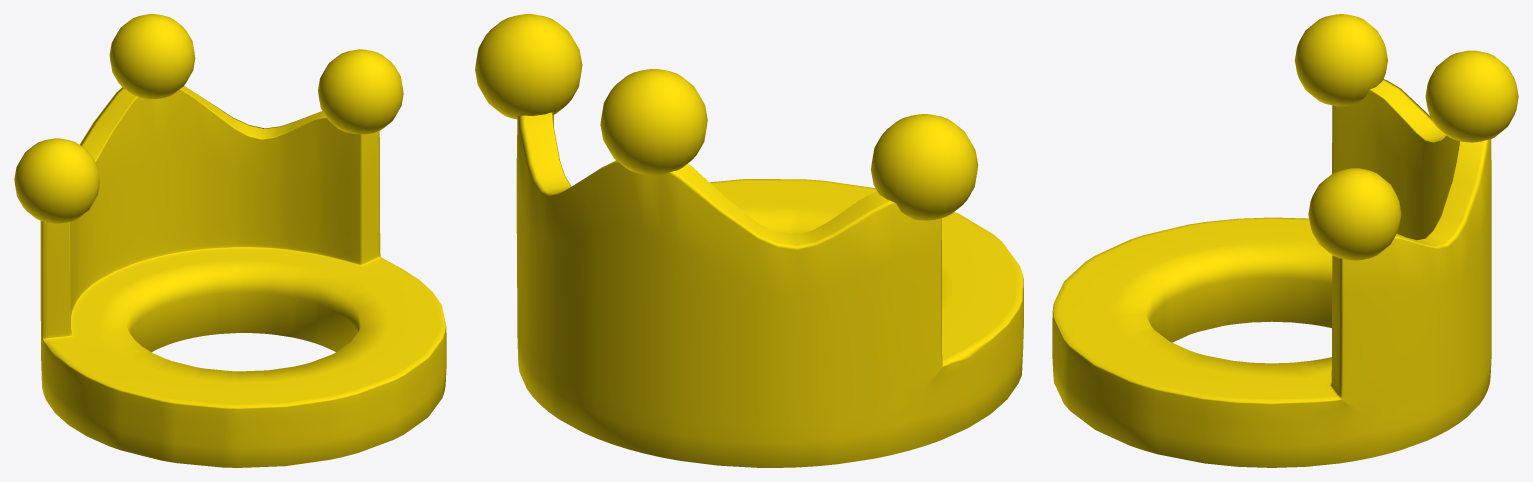
The model's file is huangguan.fbx.
The picture shows the model from 3 angles, left to right: view 1: azimuth 30°, elevation 25°; view 2: azimuth 150°, elevation 25°; view 3: azimuth 270°, elevation 25°; orthographic projection. The views are drawn at different scales.
Parts seen in each view (by area): view 1: pCylinder16, pSphere36, pSphere34, pSphere35; view 2: pCylinder16, pSphere35, pSphere36, pSphere34; view 3: pCylinder16, pSphere36, pSphere35, pSphere34.
Boxes of the visible parts, bbox=[...] form: pCylinder16: bbox=[40, 86, 446, 467]; pSphere36: bbox=[318, 49, 403, 134]; pSphere34: bbox=[14, 138, 99, 223]; pSphere35: bbox=[109, 14, 195, 99]; pCylinder16: bbox=[516, 112, 1023, 467]; pSphere35: bbox=[600, 69, 707, 175]; pSphere36: bbox=[475, 14, 582, 119]; pSphere34: bbox=[871, 114, 978, 220]; pCylinder16: bbox=[1052, 79, 1491, 467]; pSphere36: bbox=[1308, 168, 1401, 260]; pSphere35: bbox=[1425, 50, 1518, 142]; pSphere34: bbox=[1294, 14, 1387, 106].
Size of the model in its own units: 2.15 by 2.09 by 1.59.
